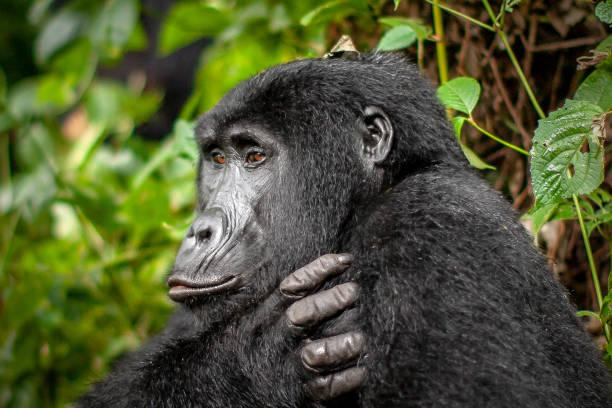goriile_montagne: (123, 47, 612, 404)
